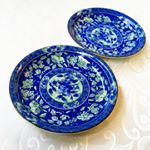other: (8, 43, 124, 136)
